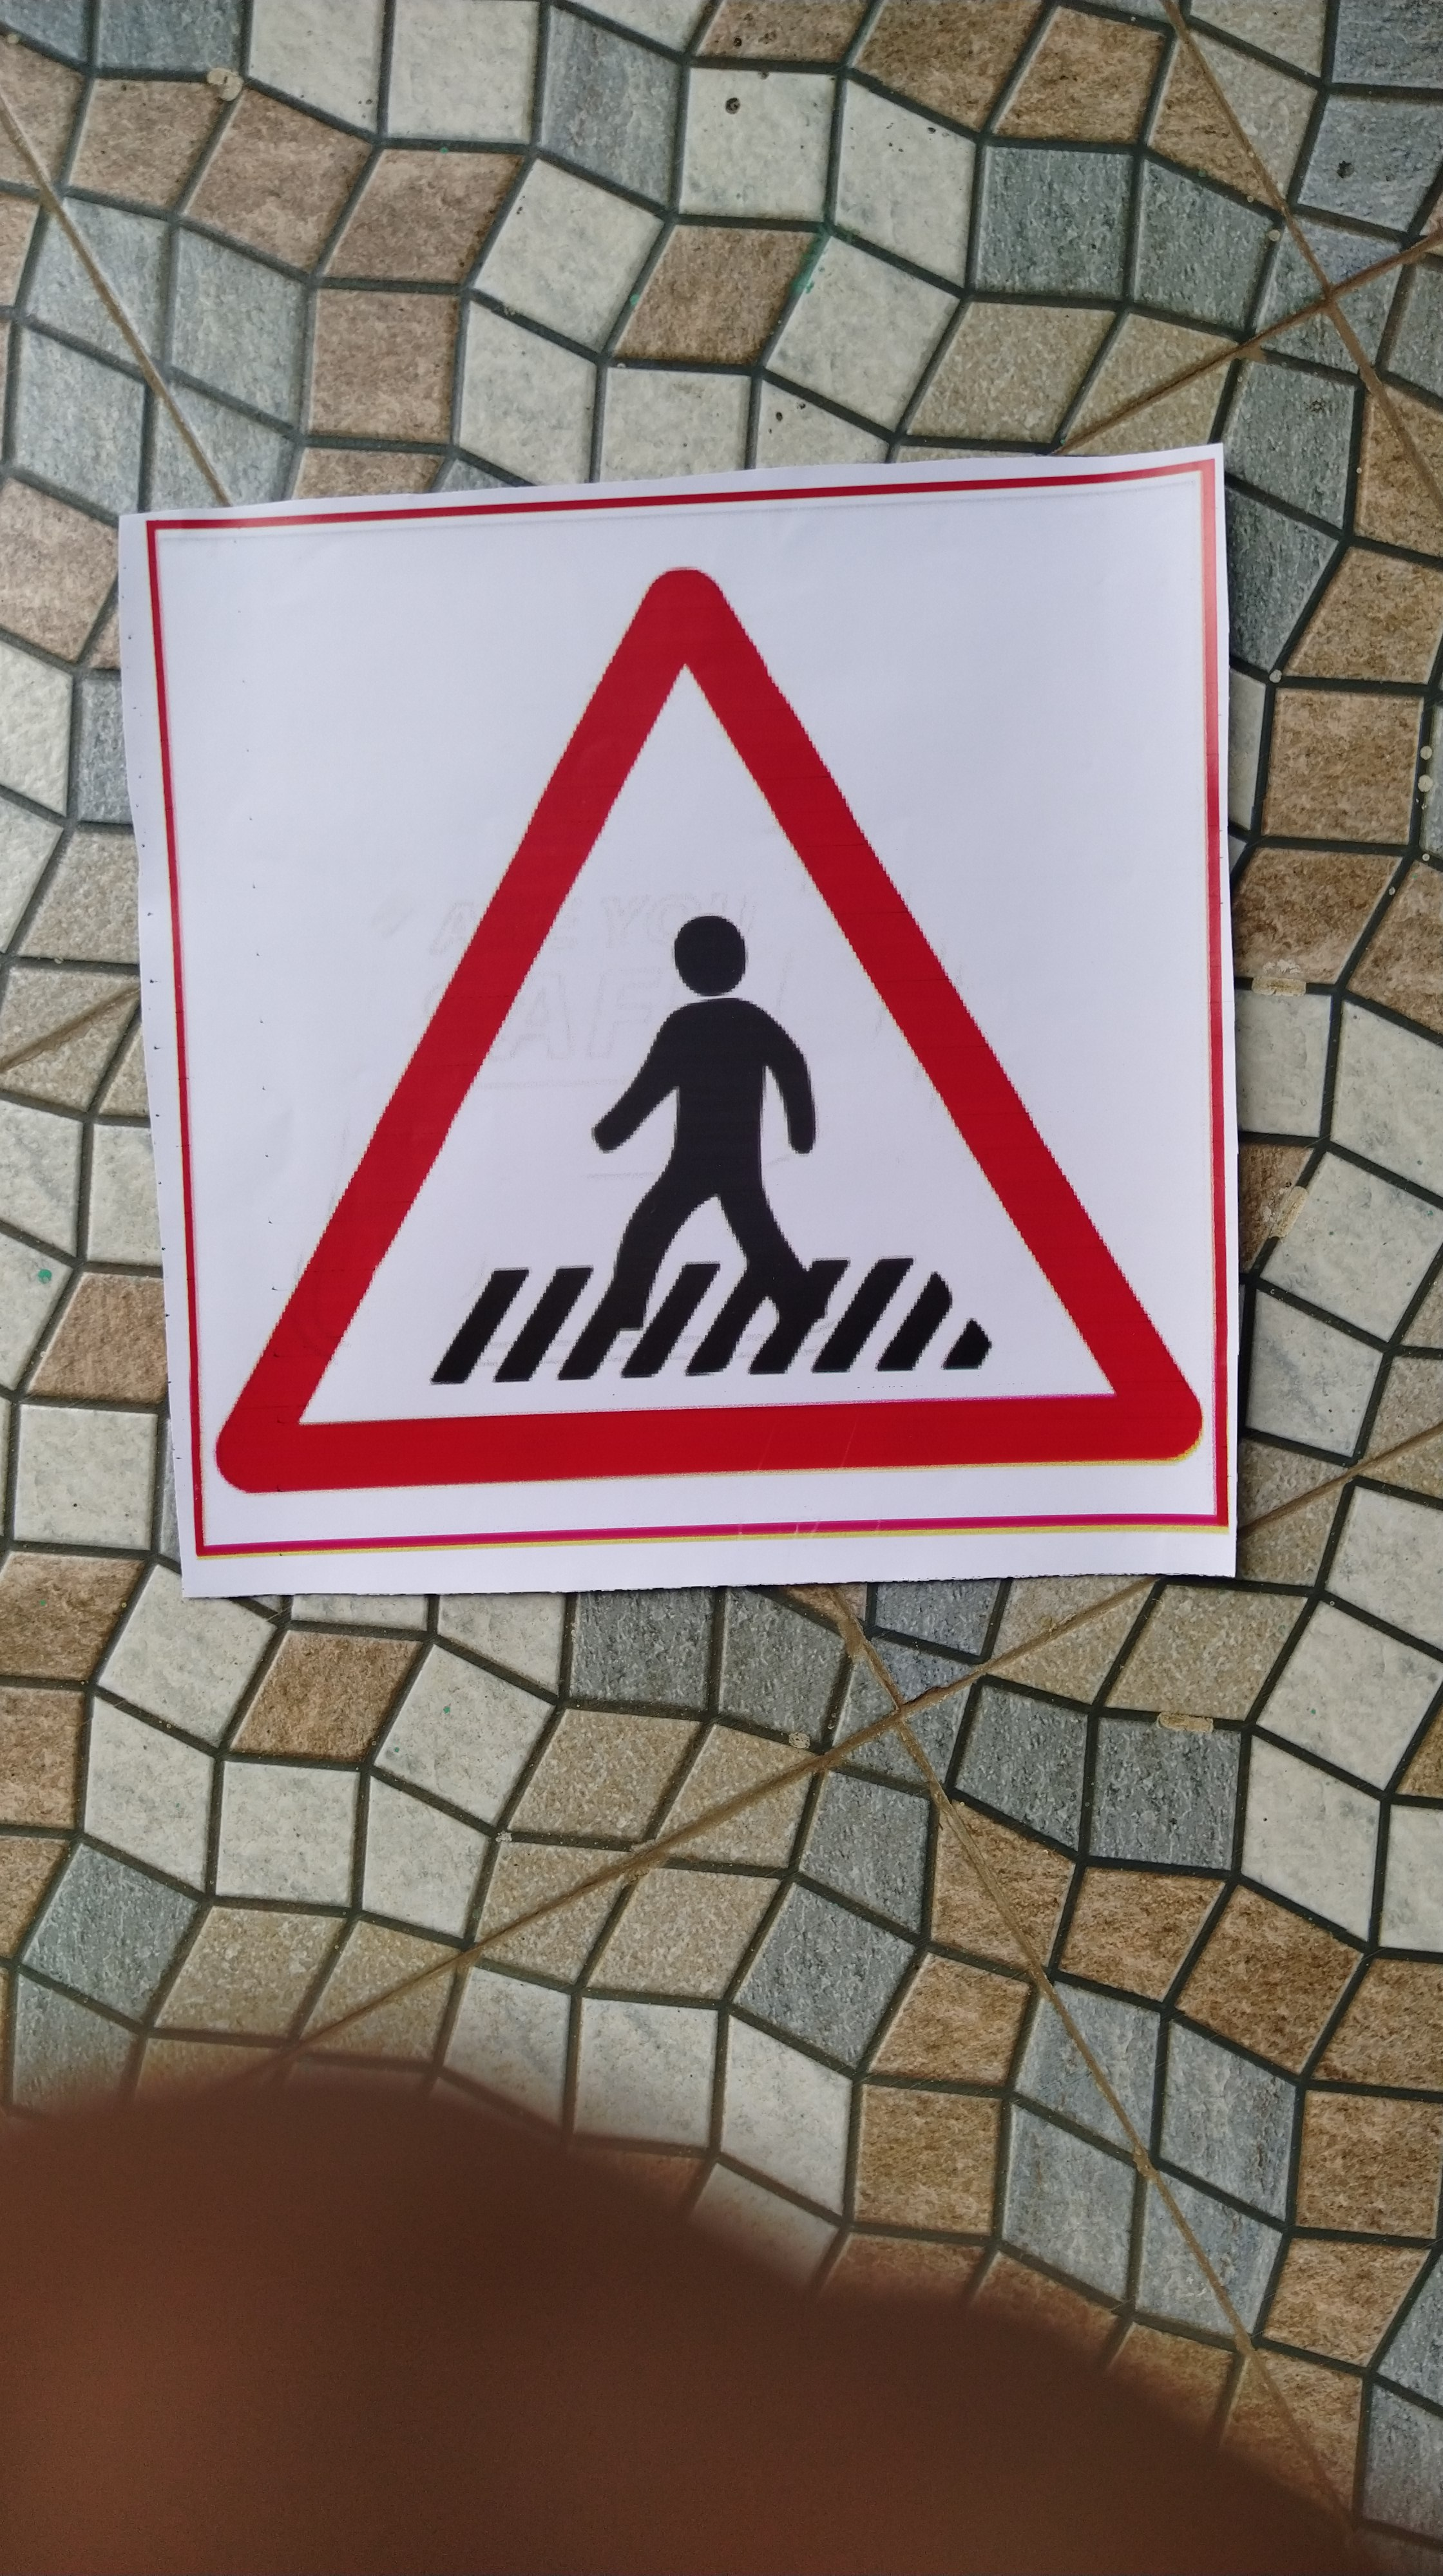pedestrain crossing: (186, 534, 1192, 1500)
